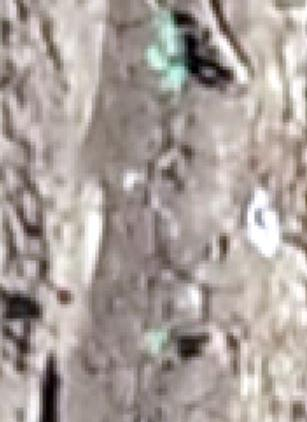cotton: (143, 328, 174, 355), (146, 43, 166, 69), (164, 66, 185, 88), (163, 31, 183, 54), (158, 11, 175, 25)
